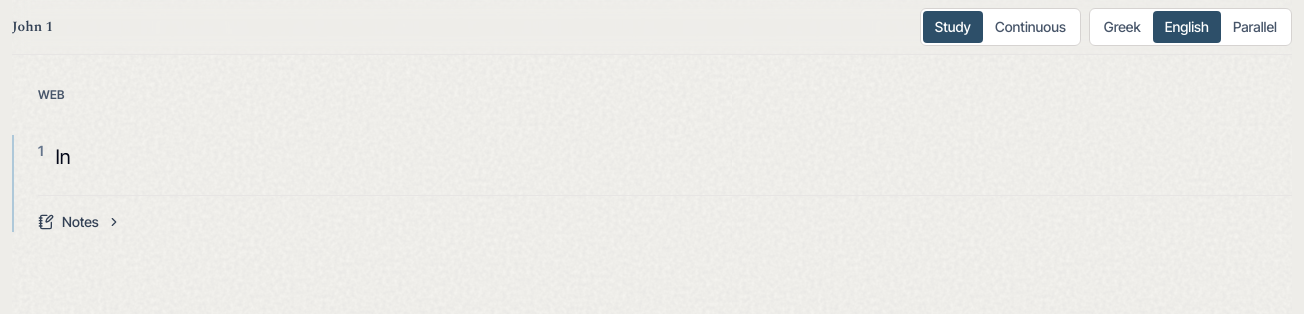
Scenario: BibleReader confirmed-color rollback › English: A fails then B fails — rolls back to original null, not A's speculative color
Open English word popover, pick Blue (A)
Step 1. Click the button "In" → [63, 157], box top-left (51, 135), bottom-right (74, 179)
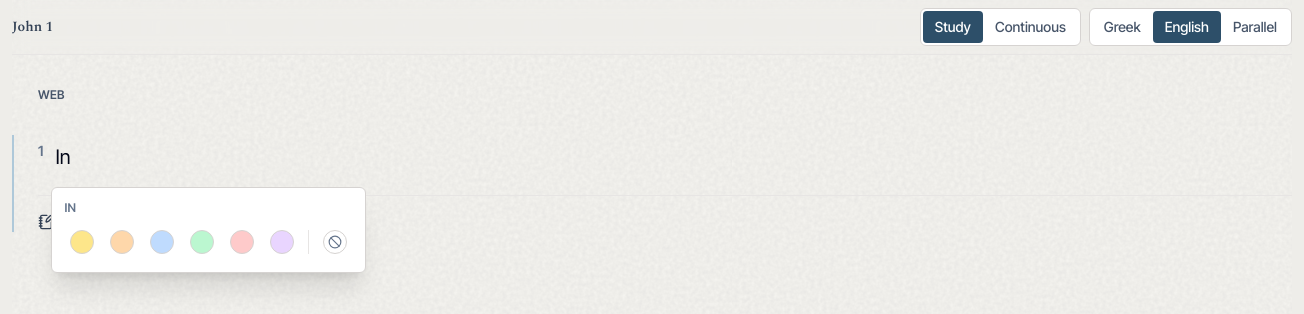
Step 2. Click the menu item named "Blue" → [162, 242], box top-left (144, 224), bottom-right (180, 260)
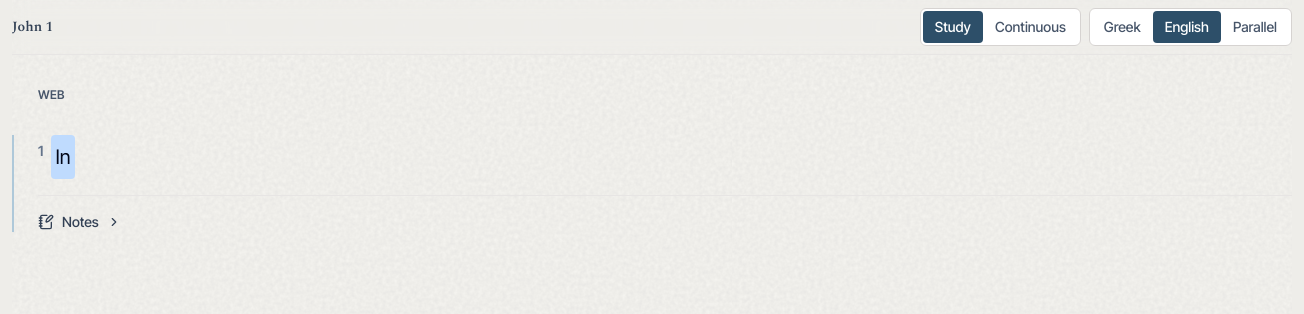
Re-open popover, pick Green (B)
Step 3. Click the button "In" → [63, 157], box top-left (51, 135), bottom-right (74, 179)
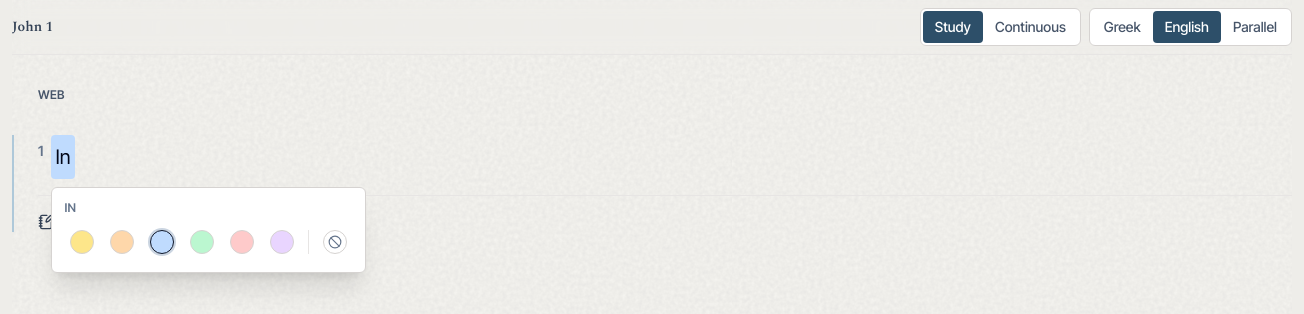
Step 4. Click the menu item named "Green" → [202, 242], box top-left (184, 224), bottom-right (220, 260)
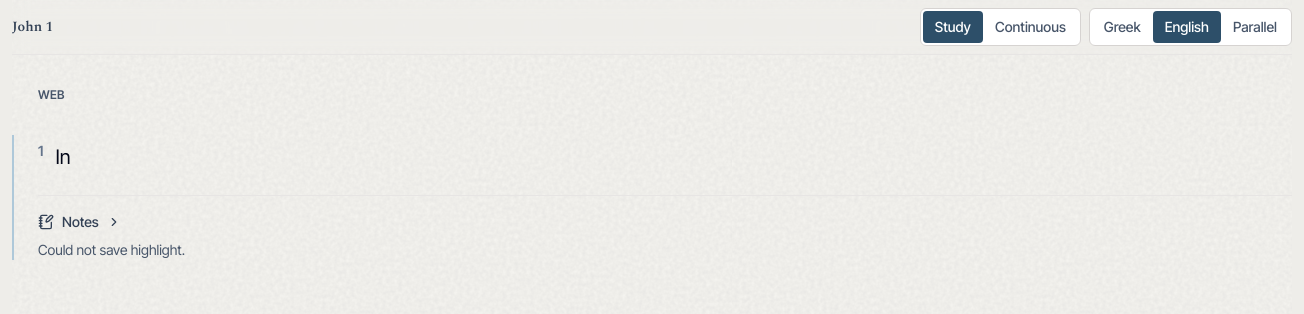
Check: the text "Could not save highlight." is shown, box top-left (38, 241), bottom-right (185, 258)
